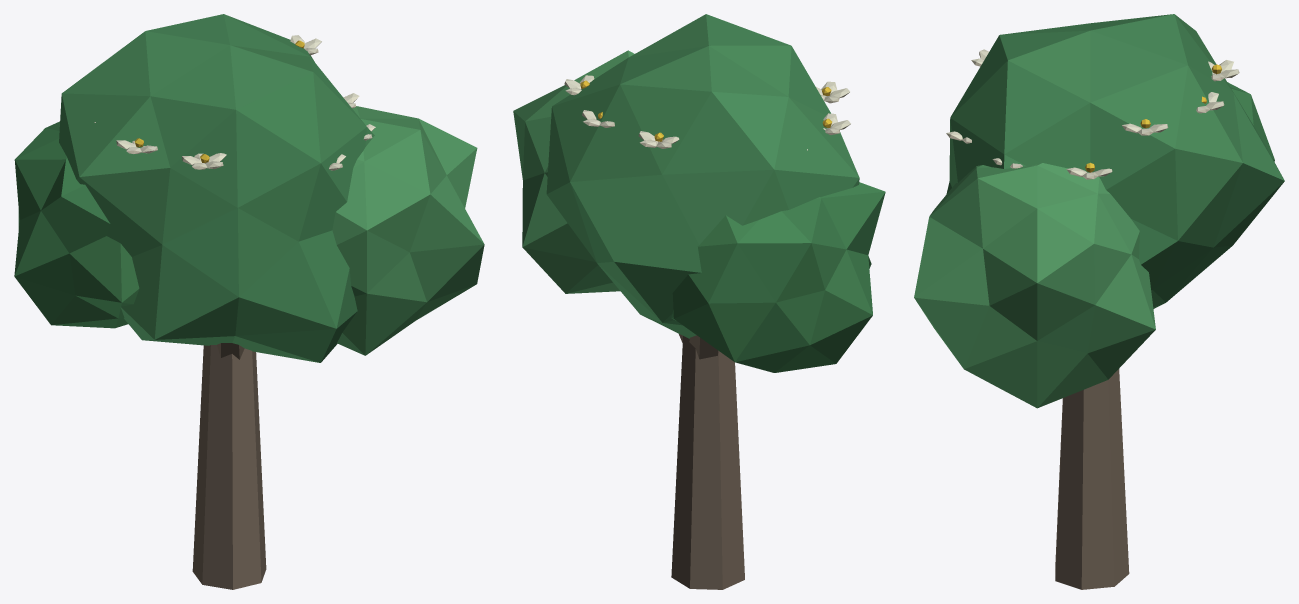
File: tree-frangipani.glb
3 renders of one model, left to right at view 1: azimuth 30°, elevation 25°; view 2: azimuth 150°, elevation 25°; view 3: azimuth 270°, elevation 25°, orthographic. The views are drawn at different scales.
Parts seen in each view (by area): view 1: tree-frangipani; view 2: tree-frangipani; view 3: tree-frangipani.
Boxes of the visible parts, x1,y1,x2,y2 form: tree-frangipani: (14,14,484,589); tree-frangipani: (513,14,885,589); tree-frangipani: (914,14,1284,589).
Bounding box in the file's own units: 2.76 × 3.39 × 2.1.
